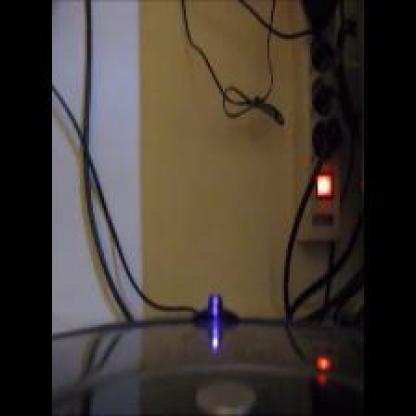other: (304, 346, 345, 390), (305, 156, 339, 206)
